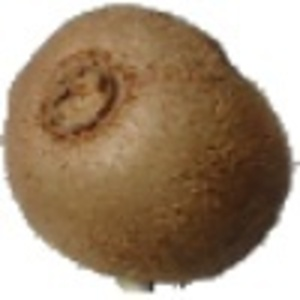kiwi: (1, 2, 300, 296)
